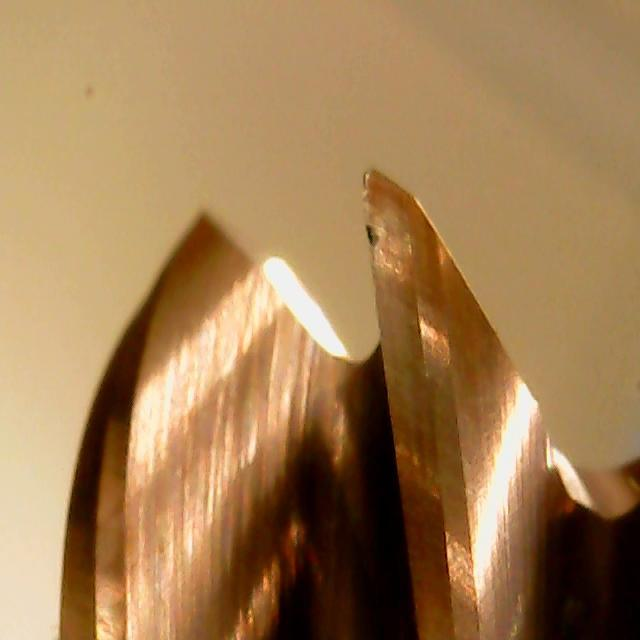Tool-wear-class-0: (358, 166, 468, 503)
